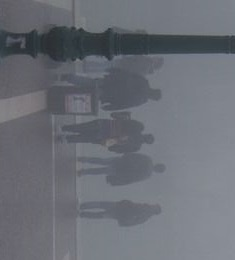person: (61, 69, 163, 110), (76, 152, 167, 186), (74, 195, 163, 229), (55, 114, 145, 144), (77, 55, 164, 78), (108, 132, 153, 154)
